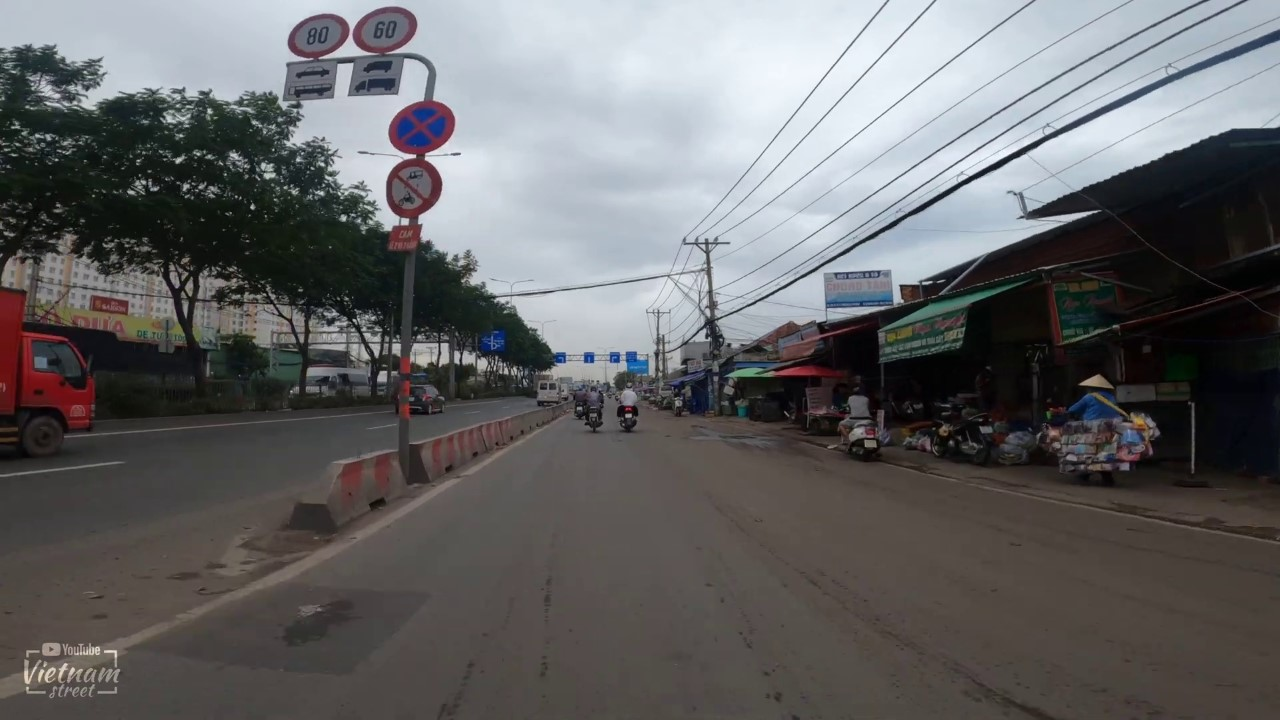gioi_han_60km: (351, 4, 419, 54)
gioi_han_80km: (287, 12, 351, 59)
